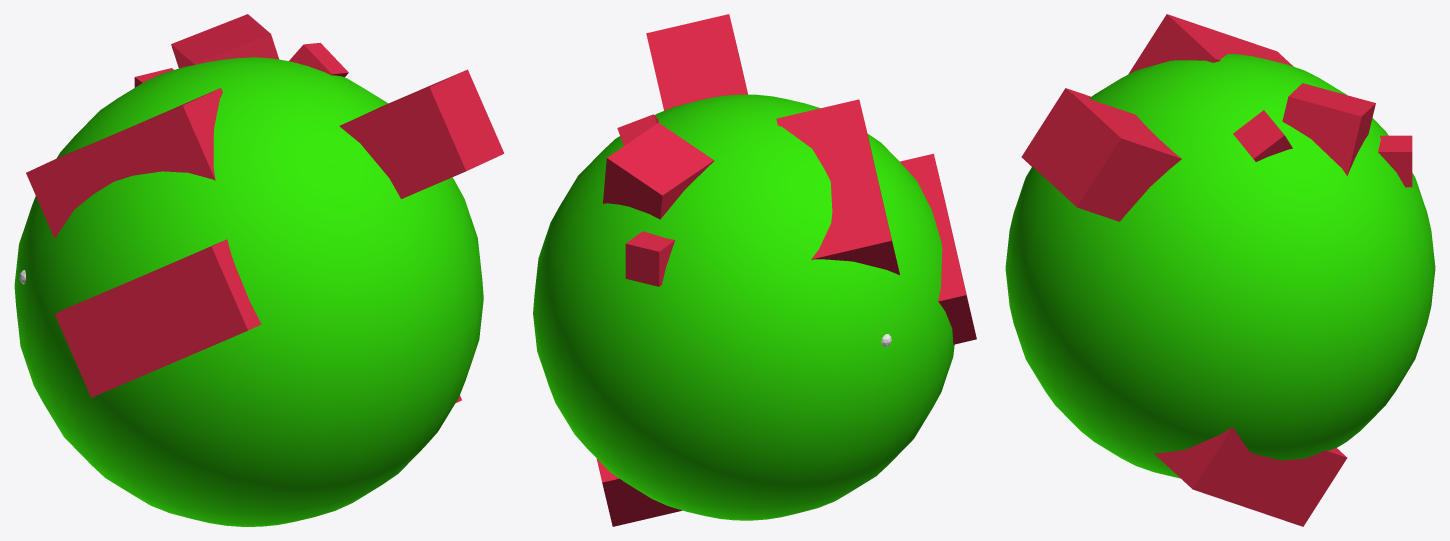
Rendered from earth.glb.
The picture shows the model from 3 angles, left to right: view 1: azimuth 30°, elevation 25°; view 2: azimuth 150°, elevation 25°; view 3: azimuth 270°, elevation 25°; orthographic projection. The views are drawn at different scales.
Visible parts, largest first — view 1: Sphere, Cube.005, Cube.003, Cube.006, Cube.002, Cube.001; view 2: Sphere, Cube.006, Cube.003, Cube.002, Cube.005, Cube.004, Cube, Cube.001; view 3: Sphere, Cube.003, Cube.004, Cube.002, Cube.006, Cube.001, Cube, Cube.005.
Boxes of the visible parts, x1,y1,x2,y2 form: Sphere: (14,57,483,526); Cube.005: (54,239,261,397); Cube.003: (339,69,504,198); Cube.006: (26,88,222,238); Cube.002: (171,14,279,68); Cube.001: (289,43,348,77); Sphere: (533,94,954,520); Cube.006: (776,99,899,274); Cube.003: (646,14,747,110); Cube.002: (603,122,714,219); Cube.005: (900,153,976,344); Cube.004: (596,458,682,526); Cube: (625,231,675,286); Cube.001: (617,114,658,145); Sphere: (1005,54,1435,478); Cube.003: (1028,93,1181,221); Cube.004: (1154,427,1347,526); Cube.002: (1282,83,1375,176); Cube.006: (1128,14,1293,74); Cube.001: (1233,110,1292,161); Cube: (1378,135,1412,187); Cube.005: (1021,88,1091,166).
Bounding box in the file's own units: 58.68 × 62.83 × 56.57.
